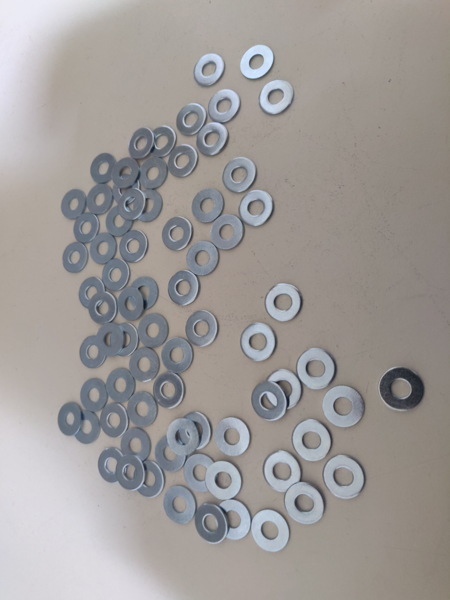circle: (380, 367, 426, 412), (324, 455, 366, 498), (296, 347, 337, 390), (324, 386, 365, 428), (284, 483, 326, 524), (251, 509, 290, 552), (293, 419, 331, 462), (264, 451, 302, 493), (265, 283, 304, 323), (206, 462, 243, 502), (251, 380, 287, 421), (215, 500, 251, 540), (196, 503, 230, 545), (266, 370, 302, 409), (241, 322, 276, 362), (215, 418, 251, 456), (178, 411, 213, 450), (186, 240, 221, 277), (185, 309, 219, 347), (259, 80, 295, 115), (167, 418, 200, 456), (153, 371, 186, 409), (239, 191, 274, 226), (223, 158, 258, 193), (184, 454, 218, 490), (211, 214, 245, 250), (192, 188, 226, 224), (162, 336, 195, 373), (164, 486, 196, 524), (168, 269, 200, 307), (134, 459, 165, 498), (127, 391, 159, 428), (241, 45, 275, 79), (161, 216, 194, 251), (208, 89, 240, 124), (132, 187, 164, 222), (156, 435, 187, 471), (139, 313, 170, 349), (197, 122, 229, 156), (121, 428, 152, 463), (106, 367, 137, 402), (99, 403, 130, 437), (194, 54, 225, 88), (119, 229, 150, 263), (177, 103, 207, 138), (80, 335, 110, 370), (129, 276, 159, 311), (112, 173, 144, 205), (138, 157, 169, 190), (102, 258, 132, 292), (117, 455, 146, 490), (98, 449, 127, 484), (80, 378, 109, 413), (105, 205, 136, 237), (168, 145, 198, 178), (118, 188, 148, 221), (111, 323, 139, 358), (73, 411, 101, 445), (118, 288, 146, 322), (111, 157, 141, 188), (87, 183, 116, 215), (97, 323, 124, 357), (90, 292, 117, 326), (90, 233, 118, 265), (149, 125, 177, 157), (128, 127, 156, 158), (79, 278, 106, 310), (91, 153, 118, 184), (58, 403, 83, 436), (63, 243, 90, 273), (61, 189, 88, 219), (74, 213, 100, 243)
